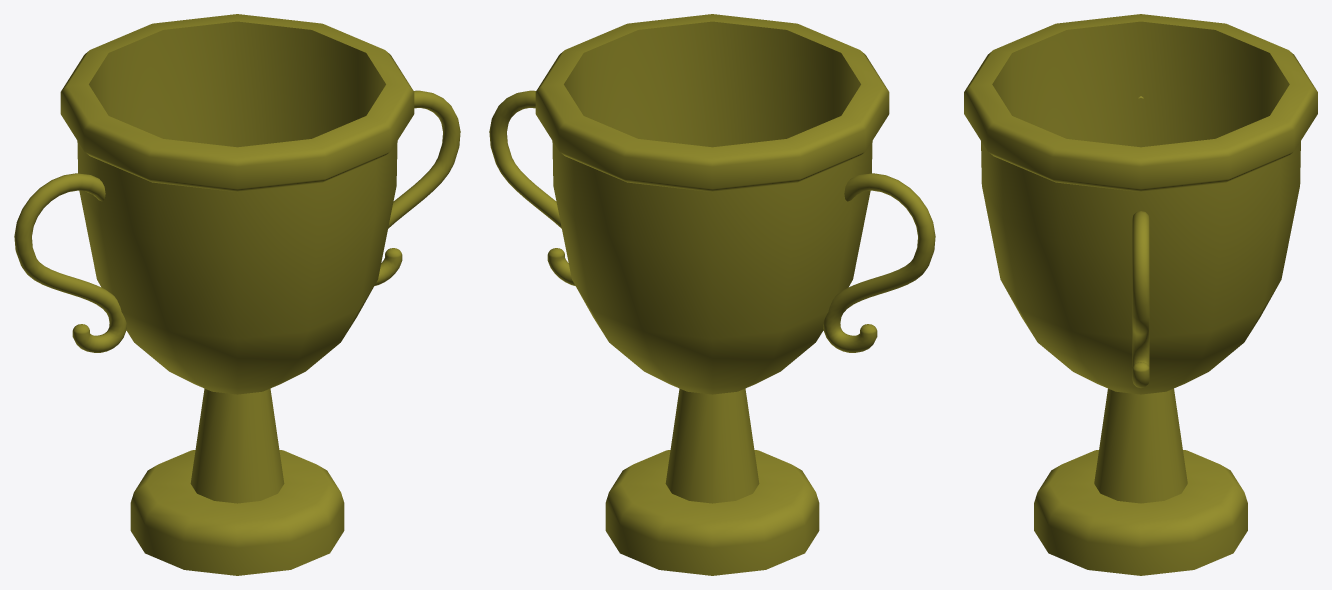
File: trophee.fbx
3 renders of one model, left to right at view 1: azimuth 30°, elevation 25°; view 2: azimuth 150°, elevation 25°; view 3: azimuth 270°, elevation 25°, orthographic.
Parts seen in each view (by area): view 1: Price; view 2: Price; view 3: Price.
Part boxes in pixels (<box>): Price: <box>14,14,460,575</box>; Price: <box>489,14,935,575</box>; Price: <box>964,14,1317,575</box>.
Size of the model in its own units: 3.5 by 3.37 by 2.42.
